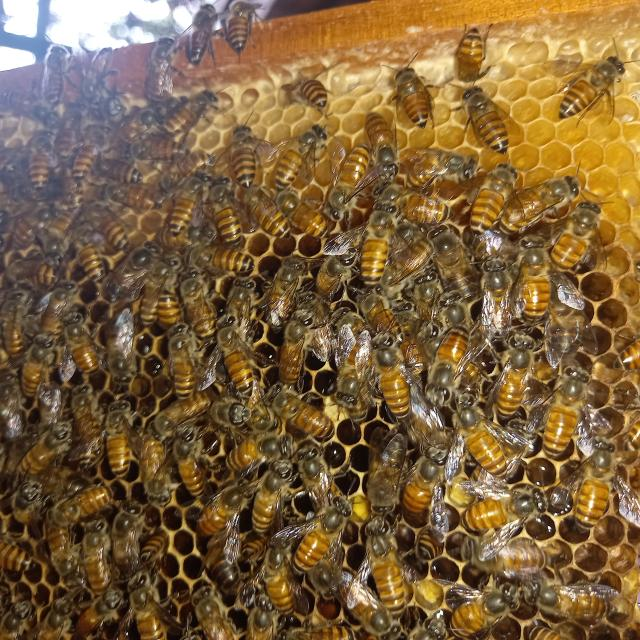honeybee: (342, 201, 420, 287), (444, 396, 520, 480), (575, 438, 639, 535), (530, 367, 594, 457), (280, 496, 348, 578), (321, 566, 398, 636), (512, 232, 566, 325), (397, 441, 455, 522), (365, 518, 411, 619), (470, 480, 546, 541), (550, 197, 609, 275), (264, 122, 327, 194), (504, 175, 582, 233), (422, 321, 476, 403), (256, 531, 306, 619), (428, 225, 481, 306), (468, 538, 567, 580), (565, 50, 621, 124), (452, 580, 519, 640), (372, 334, 417, 422), (265, 384, 335, 440), (6, 417, 76, 473), (492, 347, 546, 419), (326, 144, 374, 221), (363, 427, 403, 518), (100, 241, 160, 301), (258, 254, 306, 328), (459, 88, 511, 156), (539, 586, 626, 626), (374, 181, 454, 224), (181, 584, 242, 640), (386, 69, 441, 131), (467, 161, 512, 234), (214, 330, 260, 400), (196, 478, 250, 537), (478, 255, 513, 345), (168, 425, 210, 499), (202, 181, 246, 250), (61, 313, 106, 380), (137, 428, 176, 505), (252, 458, 292, 532), (223, 121, 265, 190), (336, 328, 370, 412), (275, 191, 337, 237), (359, 290, 405, 352), (408, 397, 456, 456), (406, 148, 480, 186), (179, 275, 222, 340), (162, 90, 223, 135), (103, 403, 139, 479), (241, 189, 292, 242), (314, 238, 359, 298), (48, 486, 116, 525), (0, 364, 31, 449), (205, 398, 277, 434), (297, 443, 334, 513), (168, 173, 209, 236), (1, 291, 36, 364), (300, 291, 334, 364), (229, 432, 291, 471), (71, 383, 104, 456), (127, 587, 172, 640), (205, 530, 242, 594), (220, 274, 255, 341), (113, 496, 141, 579), (153, 256, 185, 327), (276, 308, 306, 383), (143, 34, 178, 98), (154, 148, 210, 188), (40, 277, 80, 333), (23, 130, 61, 188), (182, 1, 218, 62), (80, 531, 116, 592), (152, 396, 208, 435), (81, 588, 123, 640), (22, 330, 54, 398), (186, 246, 256, 276), (80, 44, 116, 102), (455, 24, 491, 82), (104, 316, 138, 376), (90, 206, 137, 249), (126, 136, 189, 168), (367, 115, 399, 178), (116, 101, 166, 141), (75, 237, 110, 294), (170, 335, 201, 399), (234, 595, 278, 640), (41, 37, 70, 105), (8, 204, 51, 248), (104, 184, 162, 214), (227, 2, 260, 53), (5, 89, 51, 124), (72, 130, 104, 180), (39, 597, 76, 640), (290, 75, 331, 112), (13, 486, 53, 522), (139, 523, 168, 572), (48, 526, 74, 580), (0, 598, 32, 640), (416, 527, 454, 562), (2, 537, 36, 576), (97, 158, 147, 184), (334, 308, 368, 342), (40, 386, 66, 430), (240, 528, 272, 562), (54, 199, 81, 239), (414, 615, 447, 640), (37, 263, 64, 291), (527, 624, 572, 640)
